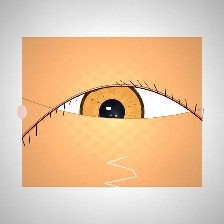foreign_body_visible: (65, 116, 105, 149)
